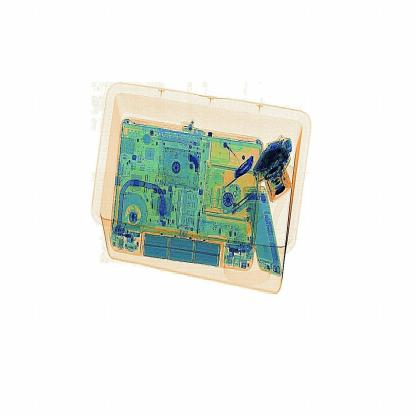knife: (230, 148, 263, 185)
